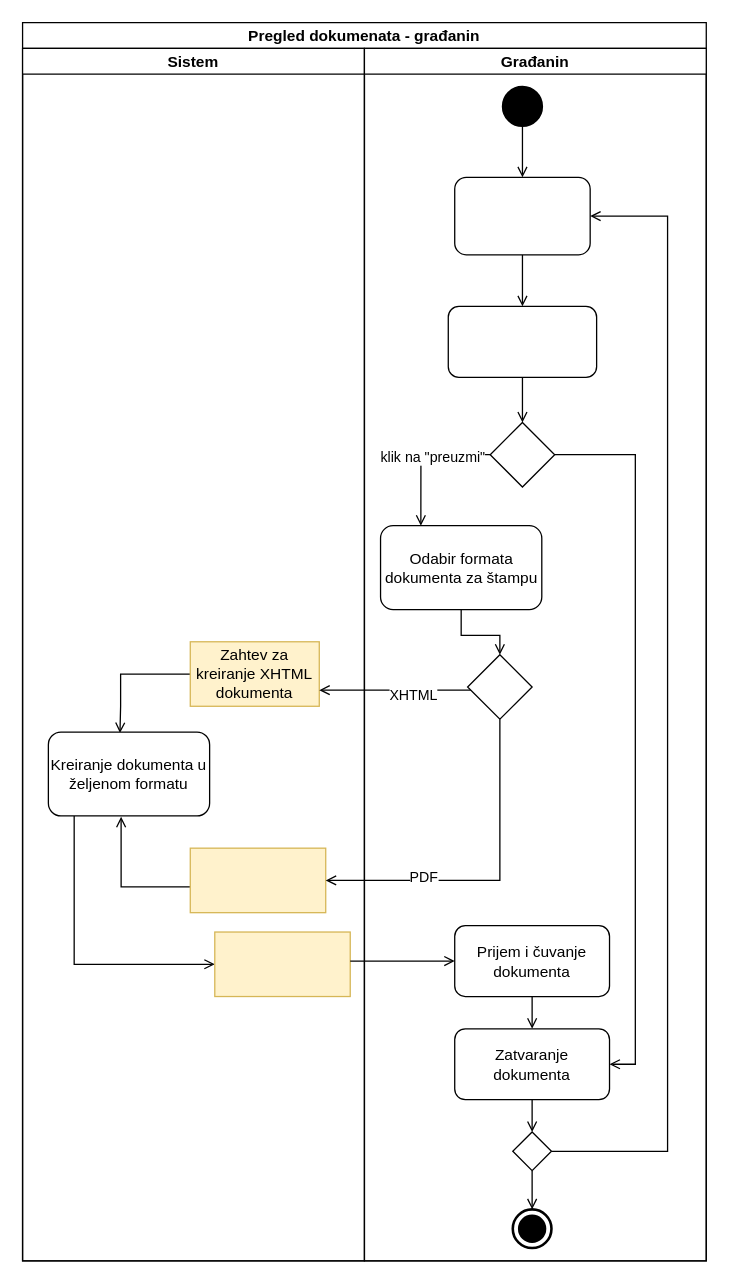
The diagram is 729 pixels wide and 1284 high, and some of its shapes have lost their labels. Each missing label, with the centre of its shape:
"Dokument u željenom formatu" goes at (281,964).
"Odabir dokumenta za pregled" goes at (522,341).
"Pregledanje dokumenata" goes at (521,215).
"Zahtev za kreiranje PDF dokumenta" goes at (257,880).
